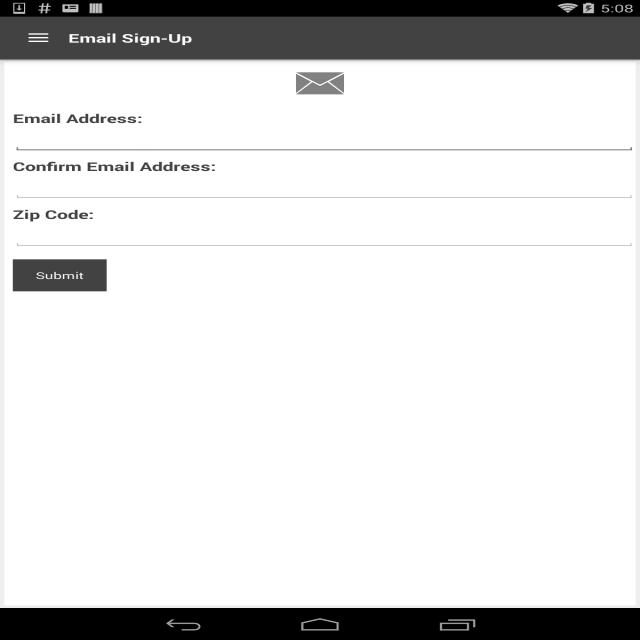Button: (12, 260, 106, 292)
EditText: (13, 126, 636, 153), (13, 174, 636, 201), (13, 222, 636, 249)
ImageButton: (9, 19, 68, 57)
ImageView: (294, 68, 346, 100)
TextView: (13, 158, 216, 174), (13, 110, 142, 126), (68, 30, 192, 46), (13, 206, 94, 222)
